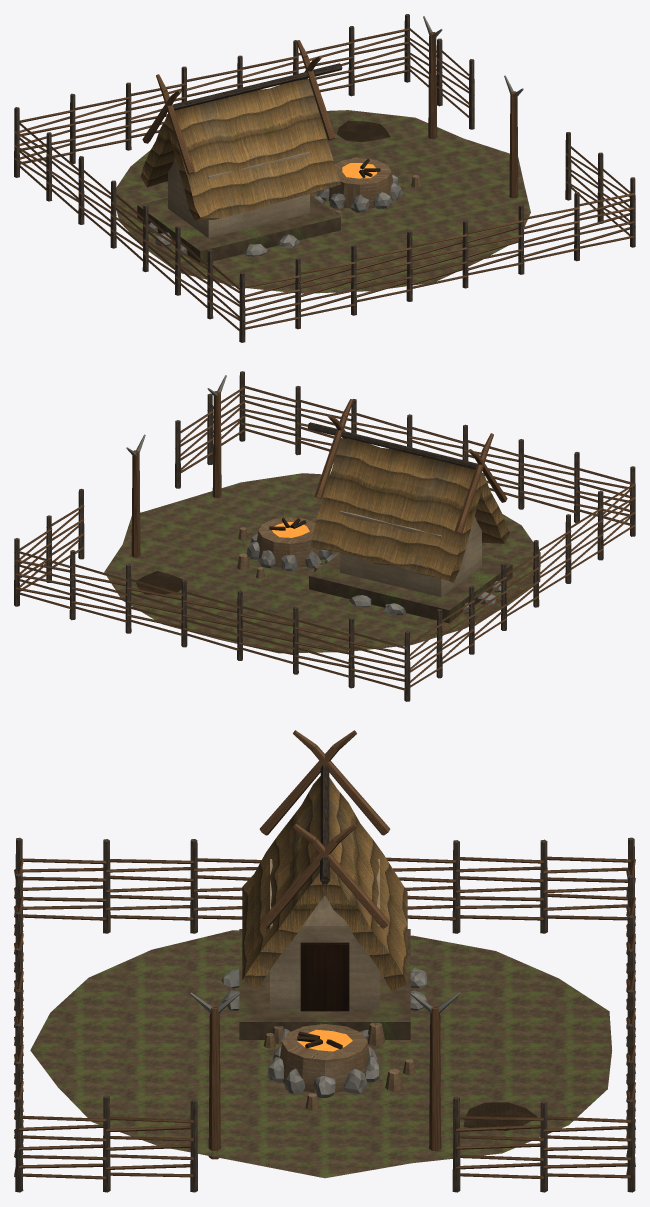
File: santuario.glb
3 renders of one model, top to bottom at view 1: azimuth 30°, elevation 25°; view 2: azimuth 150°, elevation 25°; view 3: azimuth 270°, elevation 25°, orthographic. The views are drawn at different scales.
Visible parts, largest first — view 1: santuario; view 2: santuario; view 3: santuario.
Boxes of the visible parts, x1,y1,x2,y2 form: santuario: [14, 14, 635, 342]; santuario: [14, 371, 635, 701]; santuario: [14, 730, 635, 1192].
Size of the model in its own units: 10.16 by 4.1 by 10.16.
Materials: 11 (11 with a texture image).
